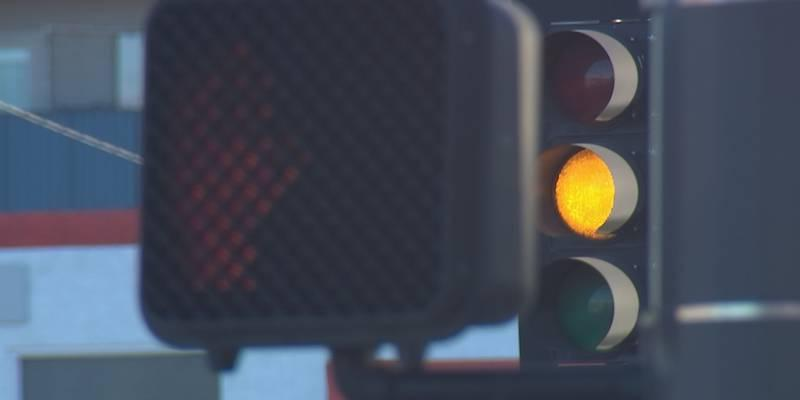yellow_light: (519, 0, 665, 372)
